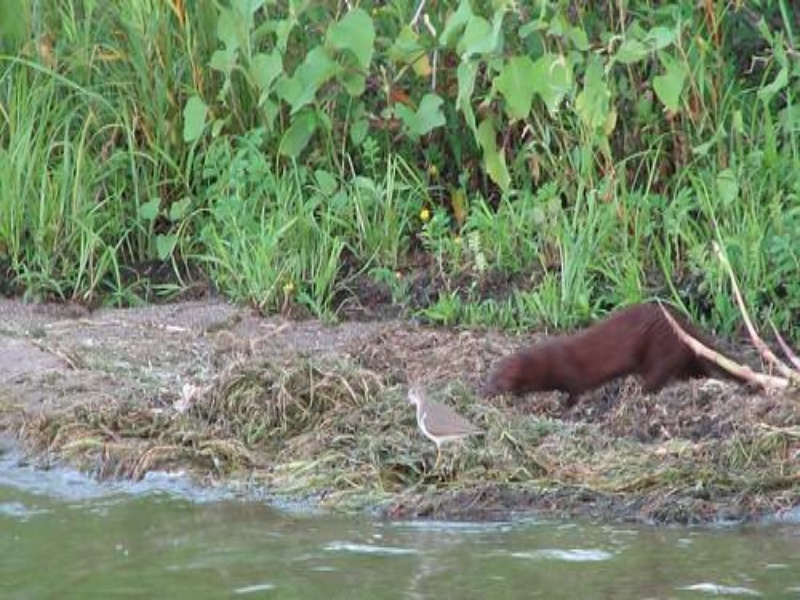minkish: (479, 298, 750, 418)
